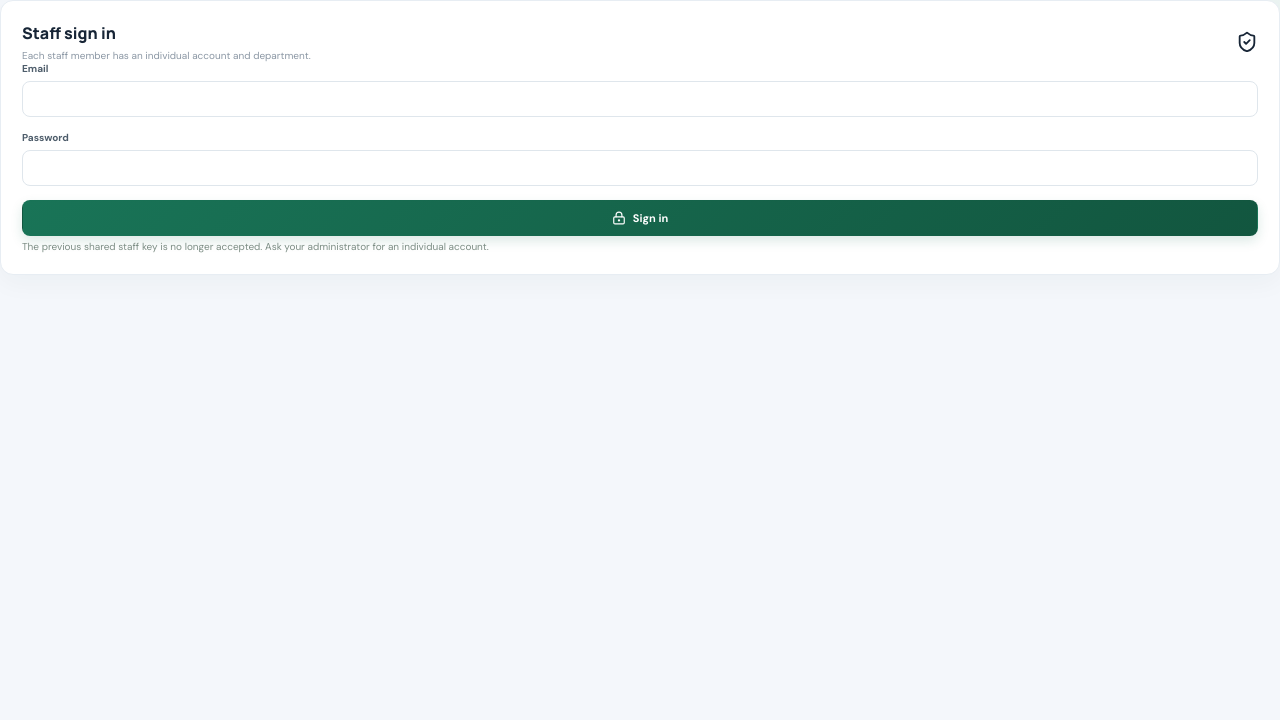
Test: individual staff task centre › signs the user out after changing their own password
The image size is (1280, 720).
Type "tech@campus.test" into the field labelled "Email".
click(640, 99); type("tech@campus.test")  # box 22,81 -> 1258,117
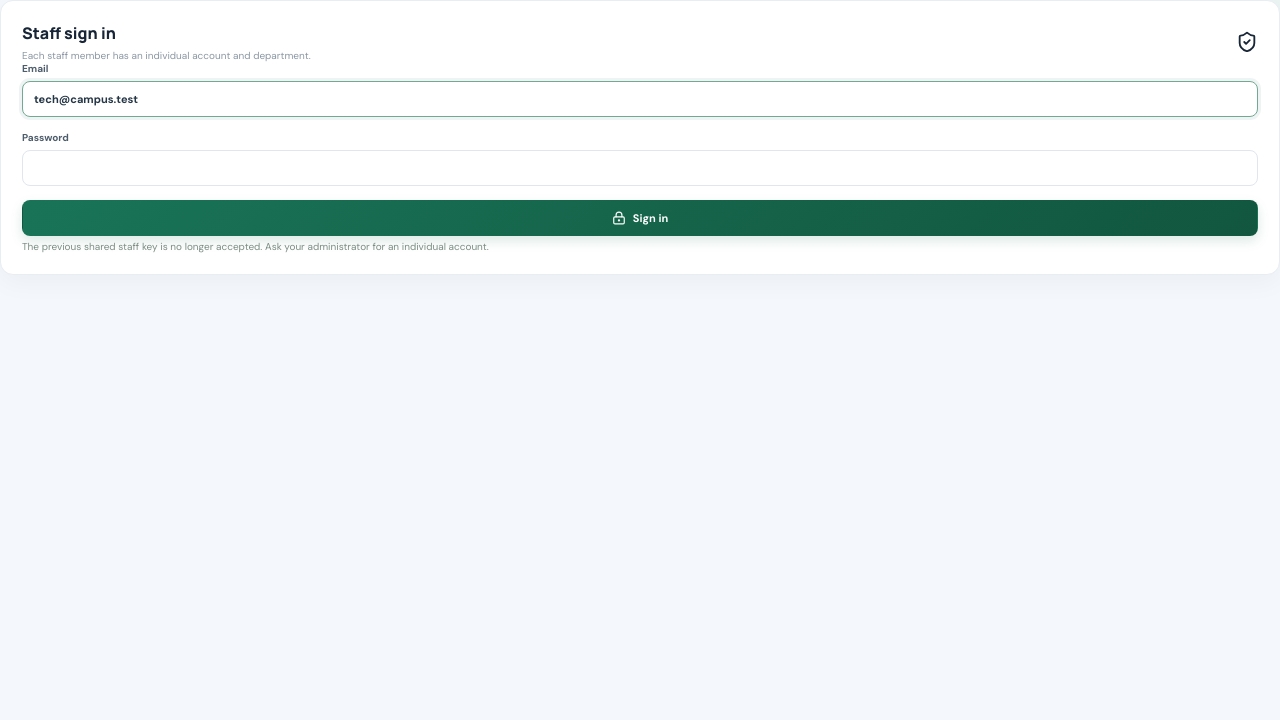
Type "secure-staff-password" into the password field labelled "Password".
click(640, 168); type("secure-staff-password")  # box 22,150 -> 1258,186
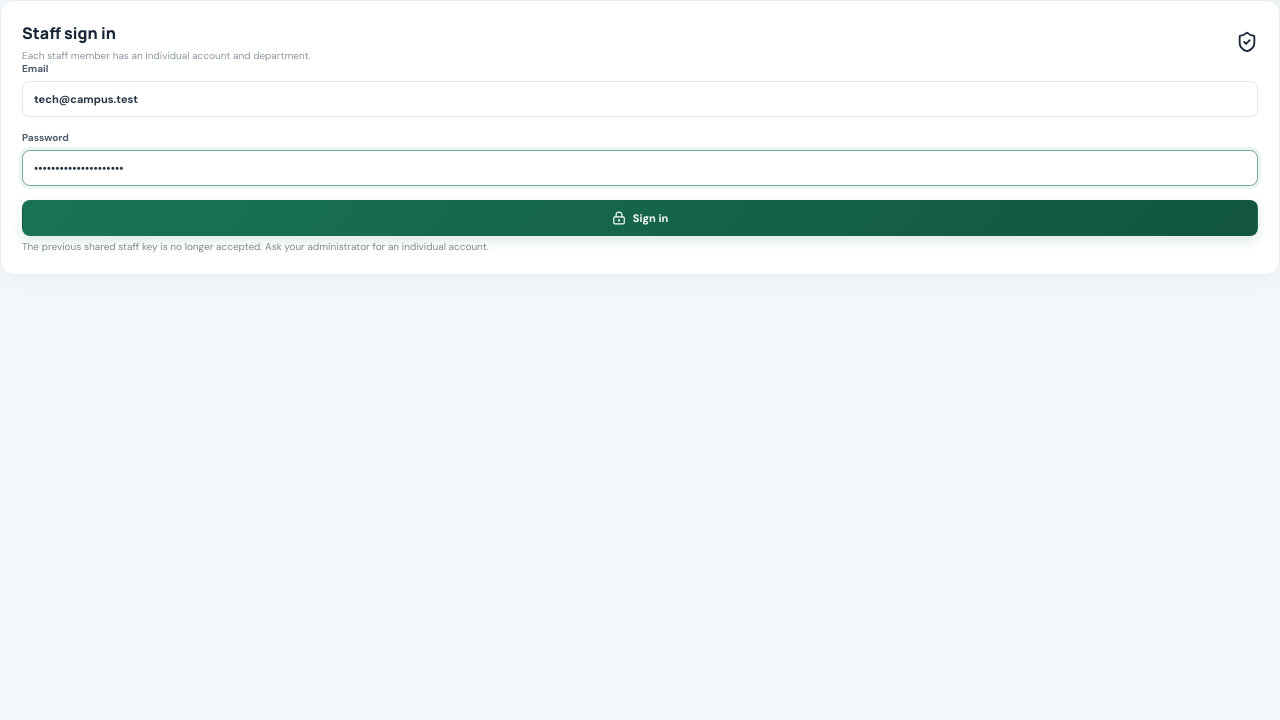
Click the button "Sign in".
click(640, 218)  # box 22,200 -> 1258,236
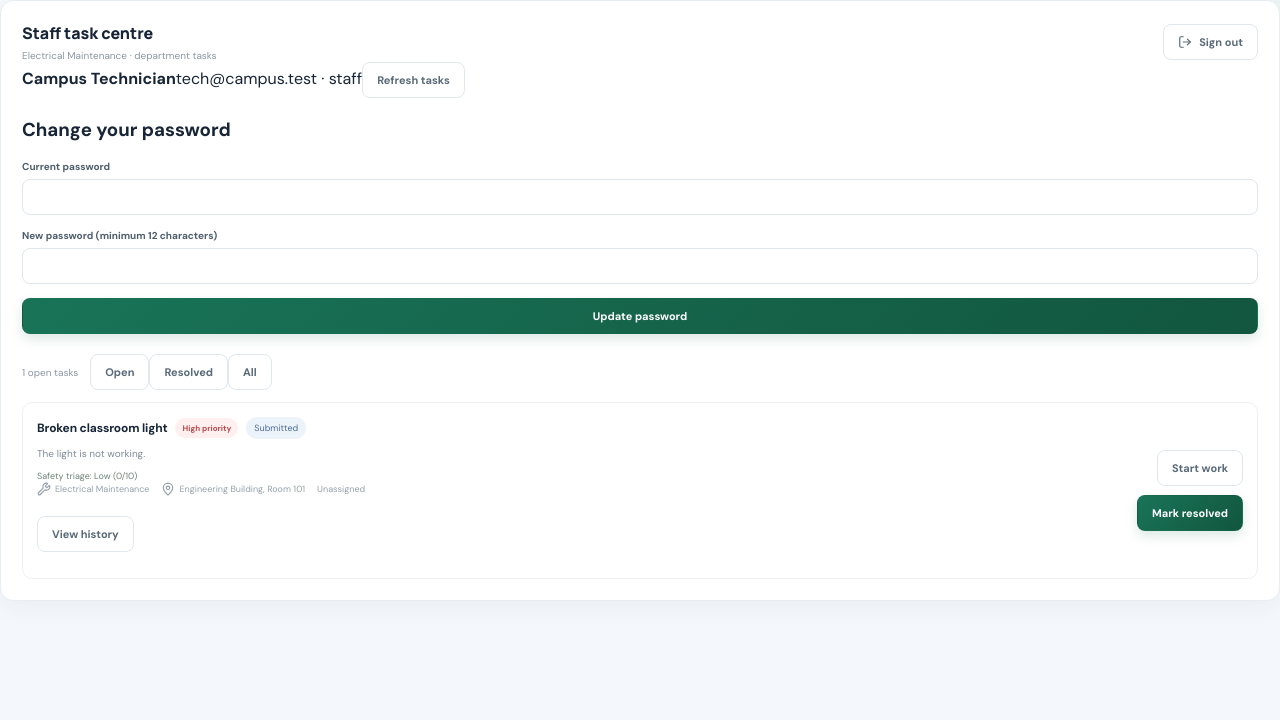
Expected: the text "Campus Technician" is shown, 22,68 -> 176,89
Type "secure-staff-password" into the password field labelled "Current password".
click(640, 197); type("secure-staff-password")  # box 22,179 -> 1258,215
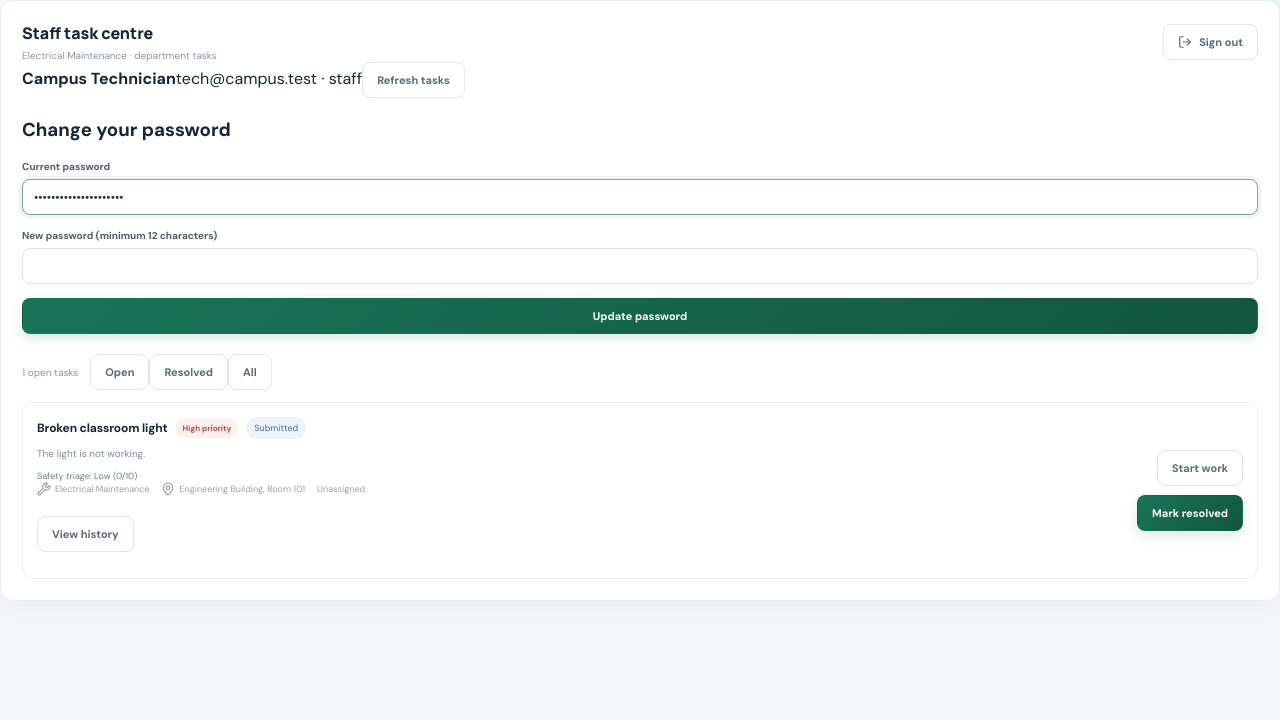
Type "another-secure-password" into the password field labelled "New password (minimum 12 characters)".
click(640, 266); type("another-secure-password")  # box 22,248 -> 1258,284
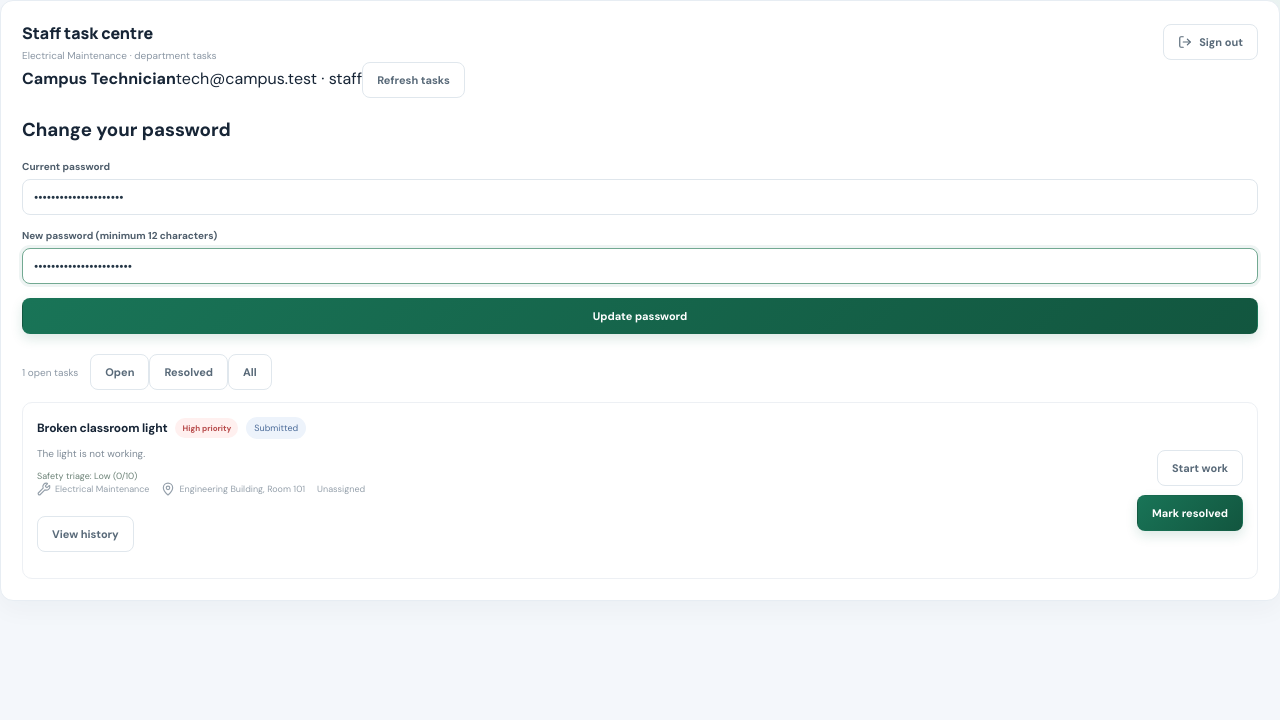
Click the button "Update password".
click(640, 316)  # box 22,298 -> 1258,334
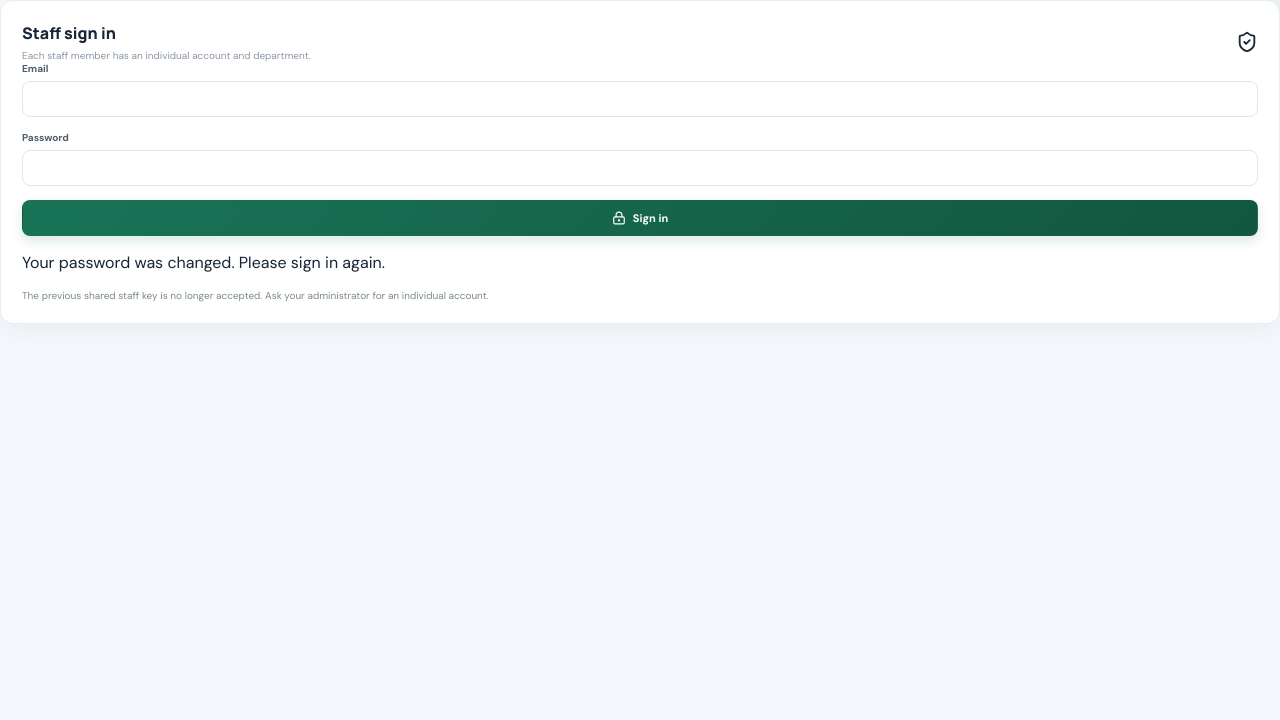
Expected: the text "Your password was changed. Please sign in again." is shown, 22,252 -> 385,273
Expected: the button "Sign in" is shown, 22,200 -> 1258,236
